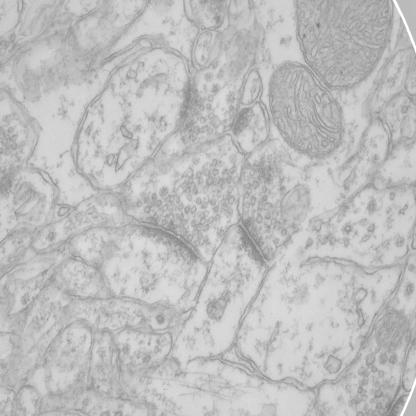mitochondria: (290, 0, 398, 90), (262, 60, 348, 162)
